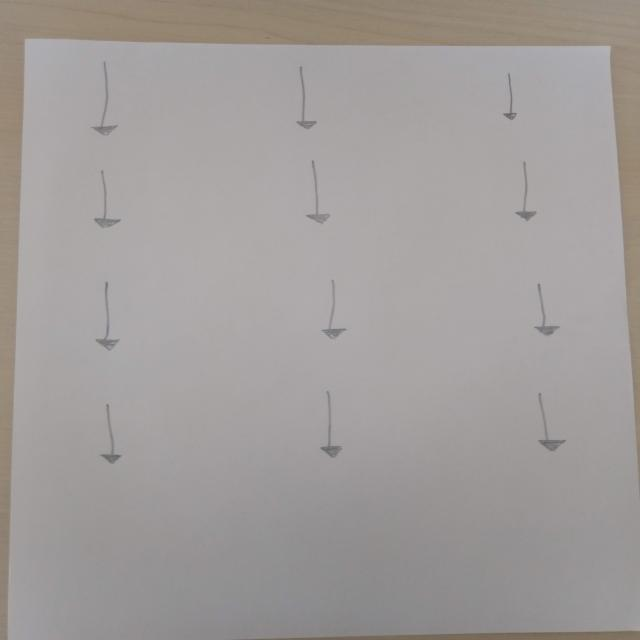arrow_line_down: (300, 158, 345, 233), (84, 282, 129, 356), (503, 154, 551, 223), (523, 282, 574, 344), (87, 63, 121, 142), (527, 392, 567, 459), (92, 404, 135, 463), (86, 169, 128, 229), (311, 276, 348, 342), (284, 66, 322, 130), (317, 388, 346, 462), (498, 72, 523, 132)
